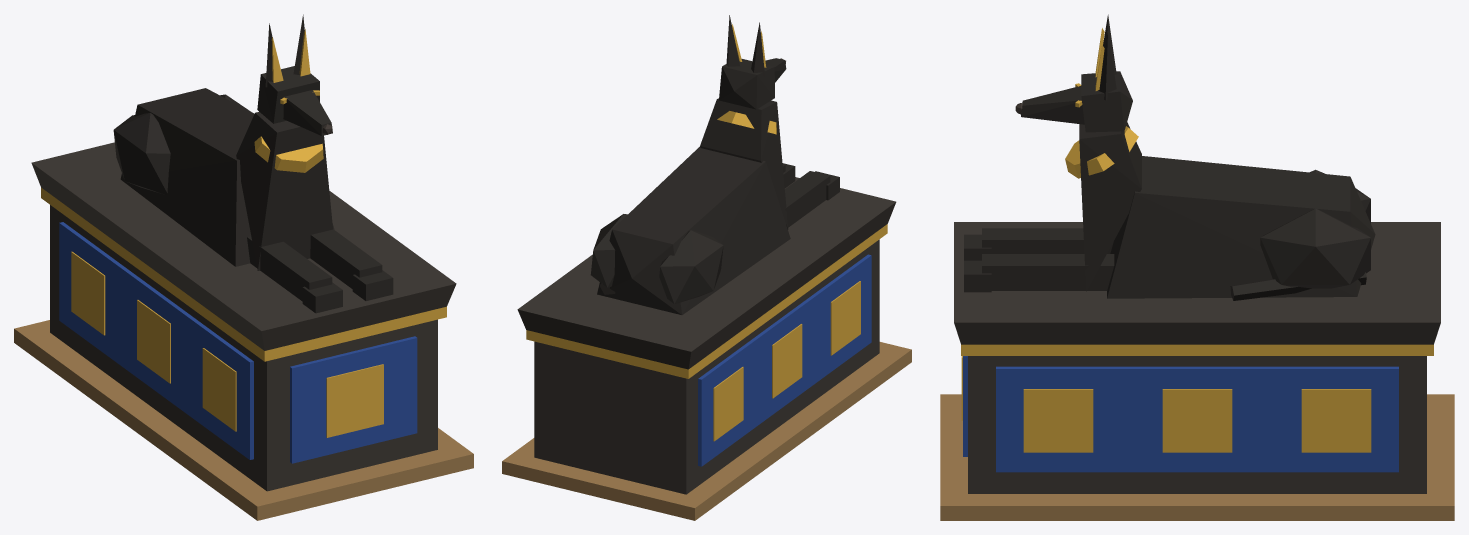
The model's file is desert_jackal_statue.glb.
The picture shows the model from 3 angles, left to right: view 1: azimuth 30°, elevation 25°; view 2: azimuth 150°, elevation 25°; view 3: azimuth 270°, elevation 25°; orthographic projection. The views are drawn at different scales.
Visible parts, largest first — view 1: desert_jackal_statue; view 2: desert_jackal_statue; view 3: desert_jackal_statue.
Part boxes in pixels (box(x1,y1,x2,y2)): desert_jackal_statue: box(14, 14, 473, 520); desert_jackal_statue: box(502, 15, 911, 520); desert_jackal_statue: box(940, 14, 1454, 520).
Size of the model in its own units: 1.9 by 3.51 by 3.7.
